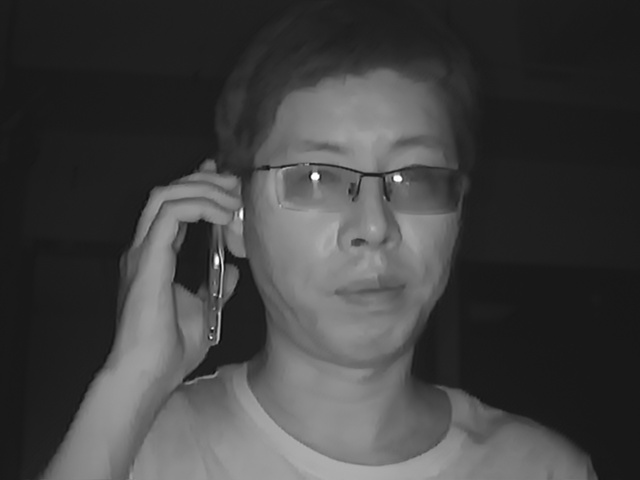hand: (116, 169, 240, 364)
